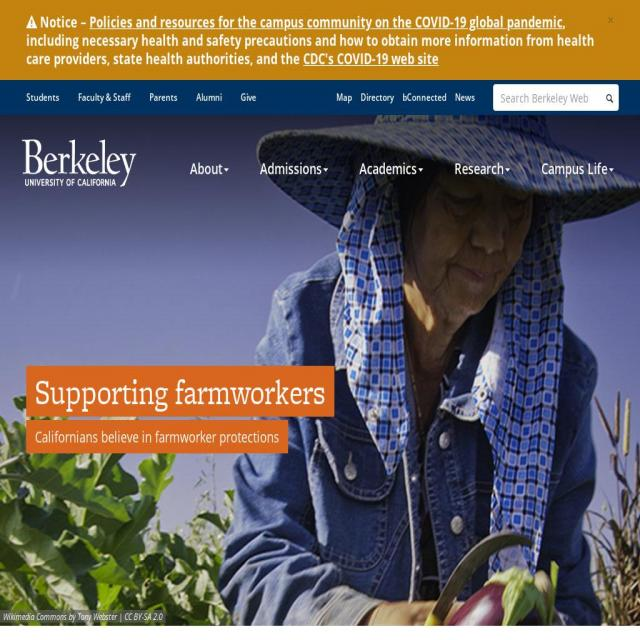navigation-links: (10, 82, 638, 212)
search: (494, 84, 626, 124)
